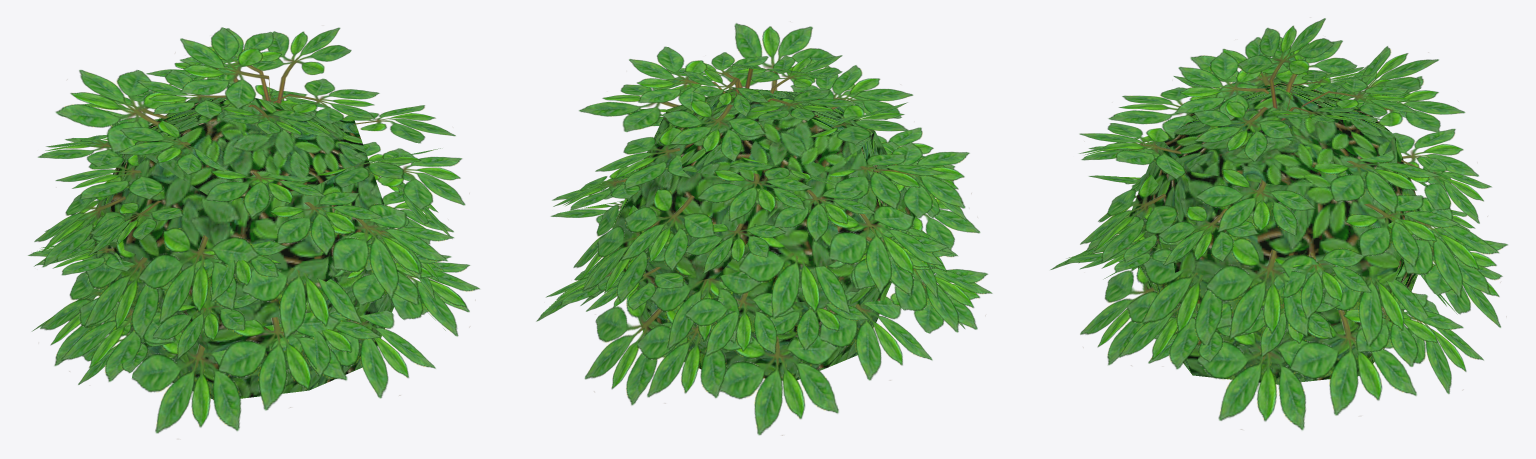
The picture shows the model from 3 angles, left to right: view 1: azimuth 30°, elevation 25°; view 2: azimuth 150°, elevation 25°; view 3: azimuth 270°, elevation 25°; orthographic projection. The views are drawn at different scales.
Parts seen in each view (by area): view 1: branches, body; view 2: branches, body; view 3: branches, body.
Part boxes in pixels (x1,y1,x2,y2): branches: (28,27,479,433); body: (85,97,407,399); branches: (536,23,992,435); body: (612,88,915,380); branches: (1050,18,1507,430); body: (1129,77,1427,384).
Bounding box in the file's own units: 229 × 181 × 237.
2 materials, 2 textured.
